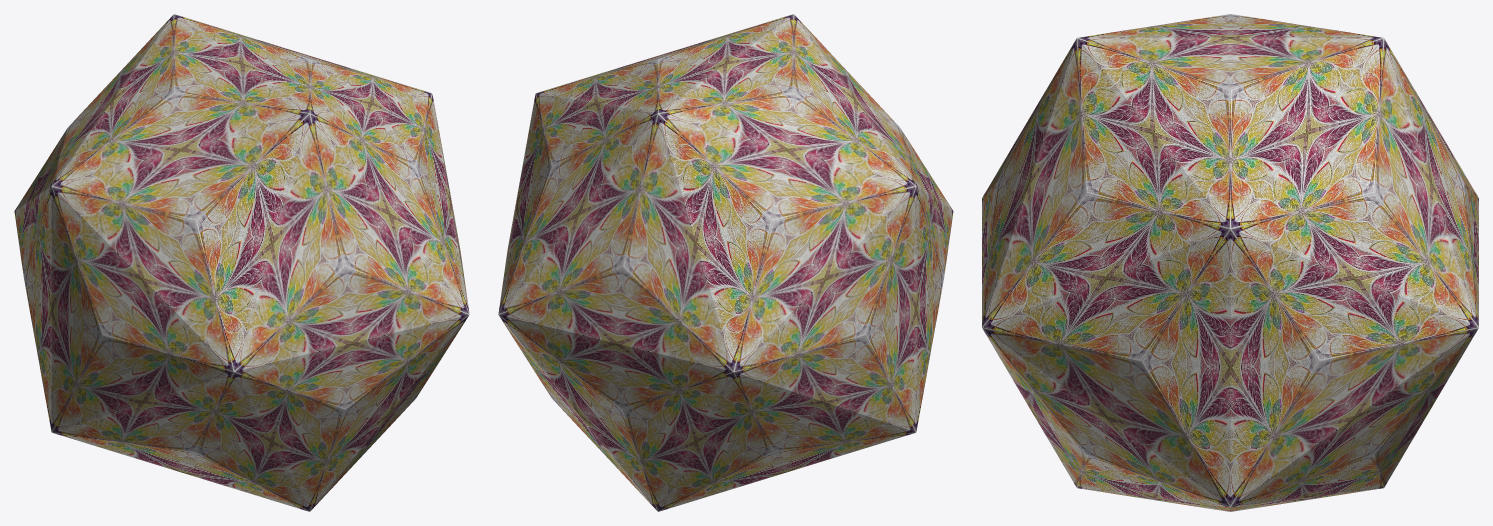
File: TriakisIcosahedron8.obj
The picture shows the model from 3 angles, left to right: view 1: azimuth 30°, elevation 25°; view 2: azimuth 150°, elevation 25°; view 3: azimuth 270°, elevation 25°; orthographic projection. The views are drawn at different scales.
Size of the model in its own units: 5.85 by 5.85 by 5.85.
Materials: 1 (1 with a texture image).
